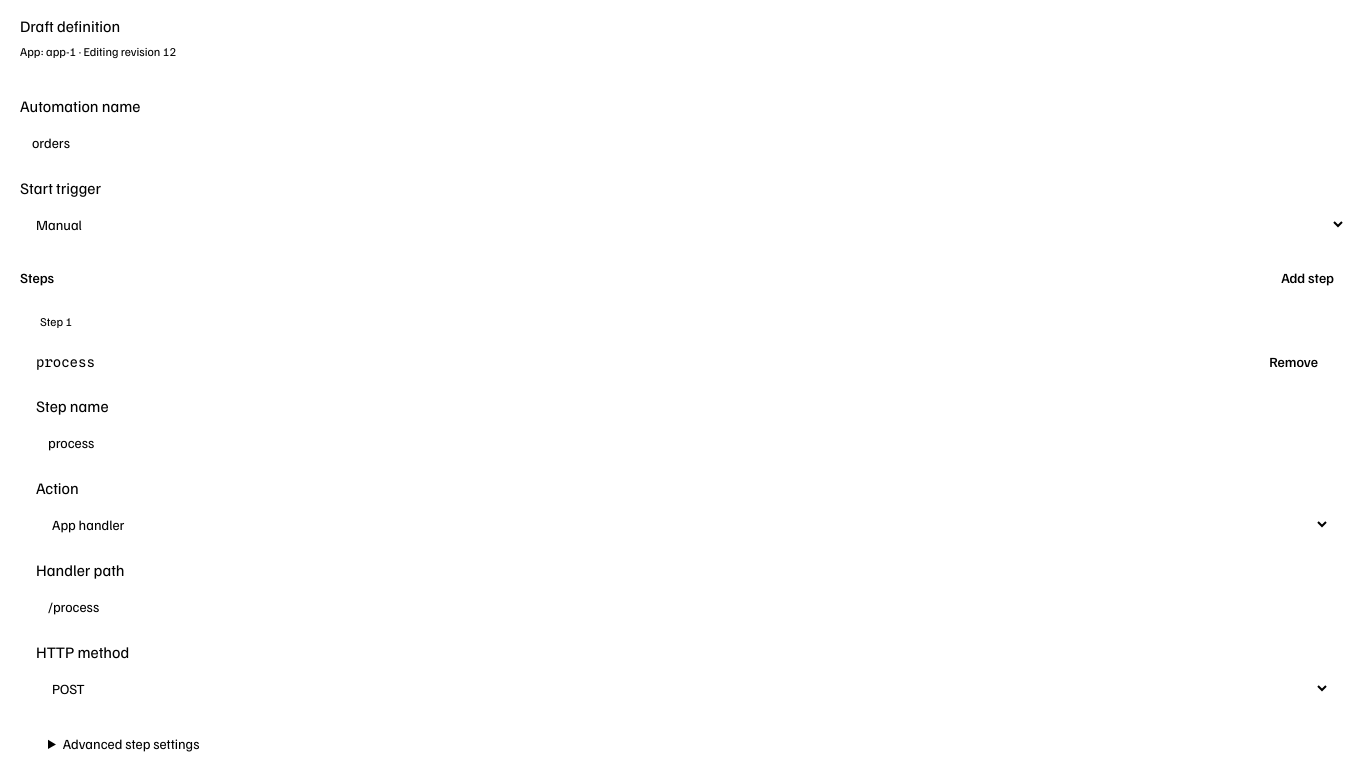
it: automation editor write boundaries › keeps local edits and blocks further writes after a version conflict
Type "-changed" into the field labelled "Handler path".
click(683, 606); type("-changed")  # box [36, 588, 1330, 624]
(page scrolled)
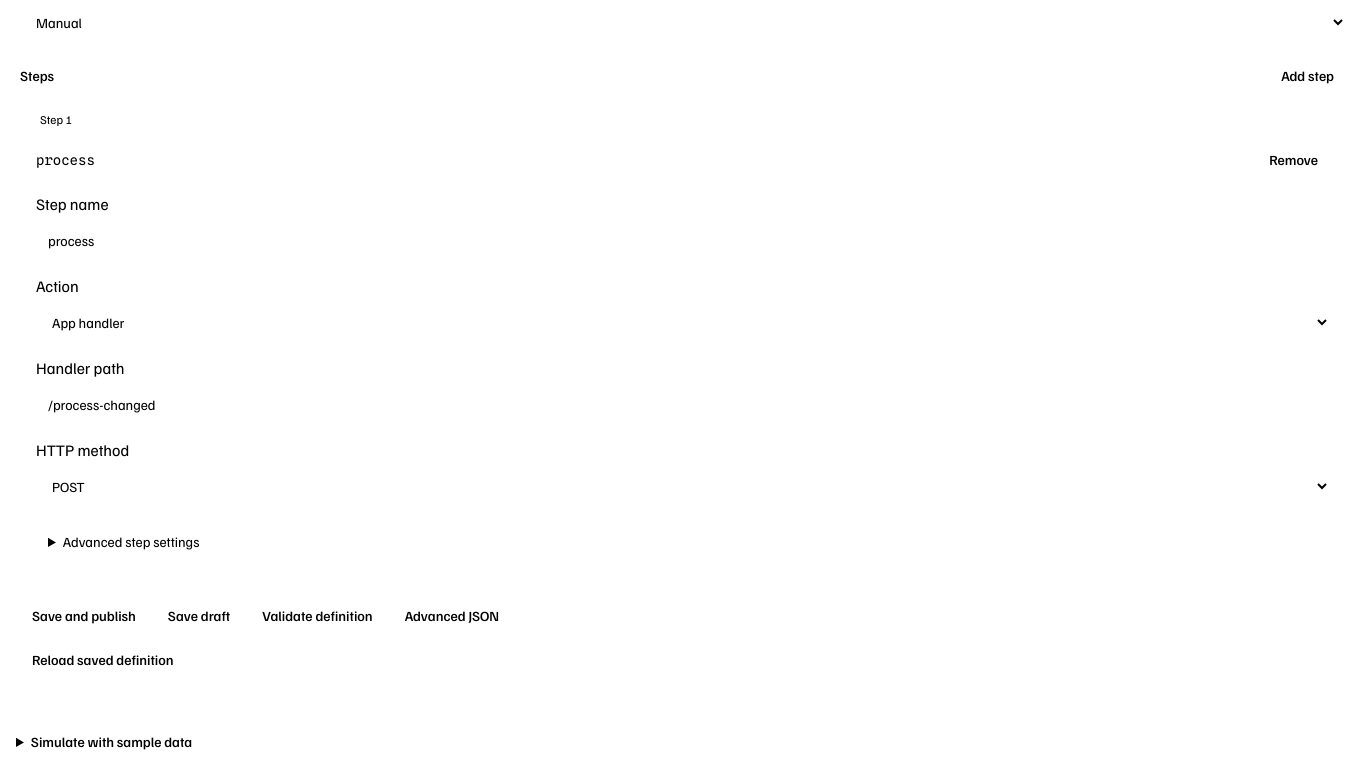
Click the button "Save draft".
click(199, 616)  # box [156, 600, 242, 632]
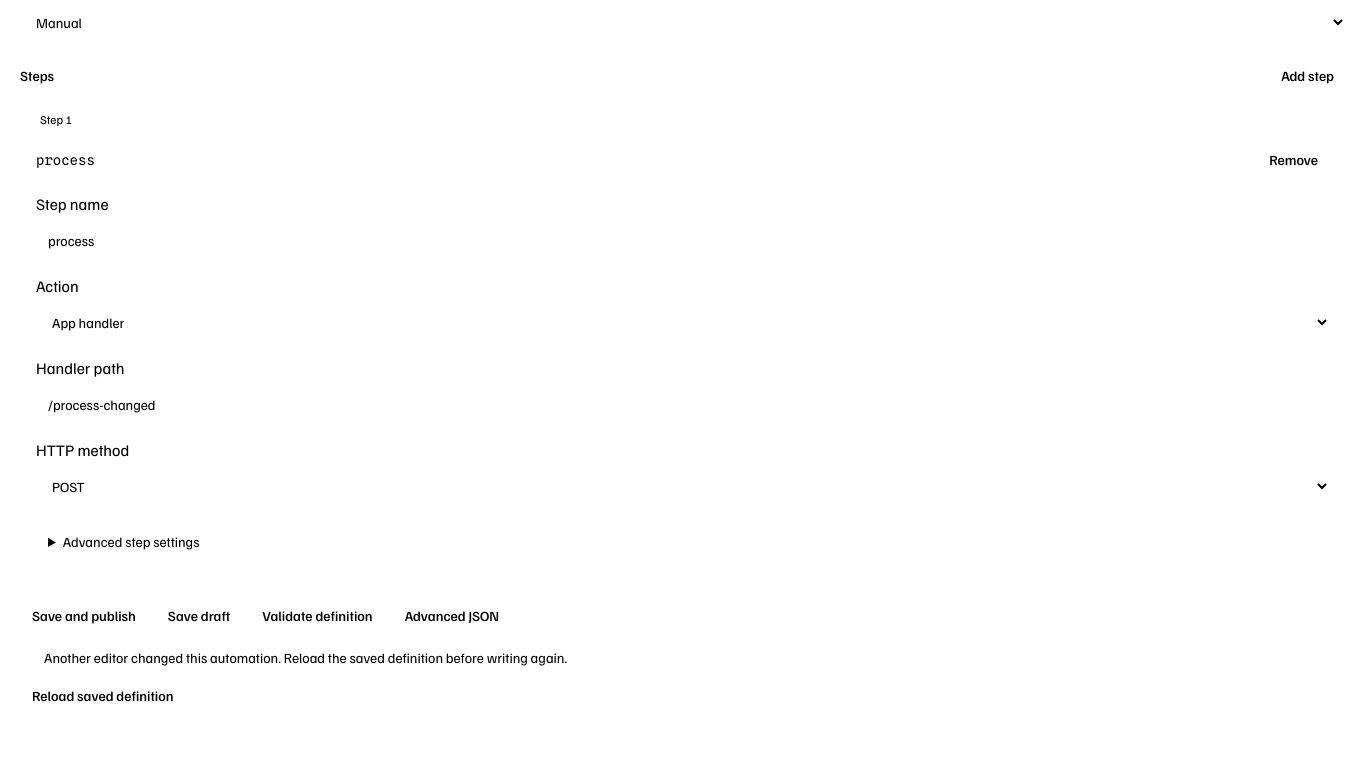
expect the button "Save and publish" is disabled: met, box [20, 600, 148, 632]
expect the field labelled "Handler path" holds "/process-changed": met, box [36, 386, 1330, 422]
expect the message shows "Another editor": met, box [44, 649, 567, 666]
